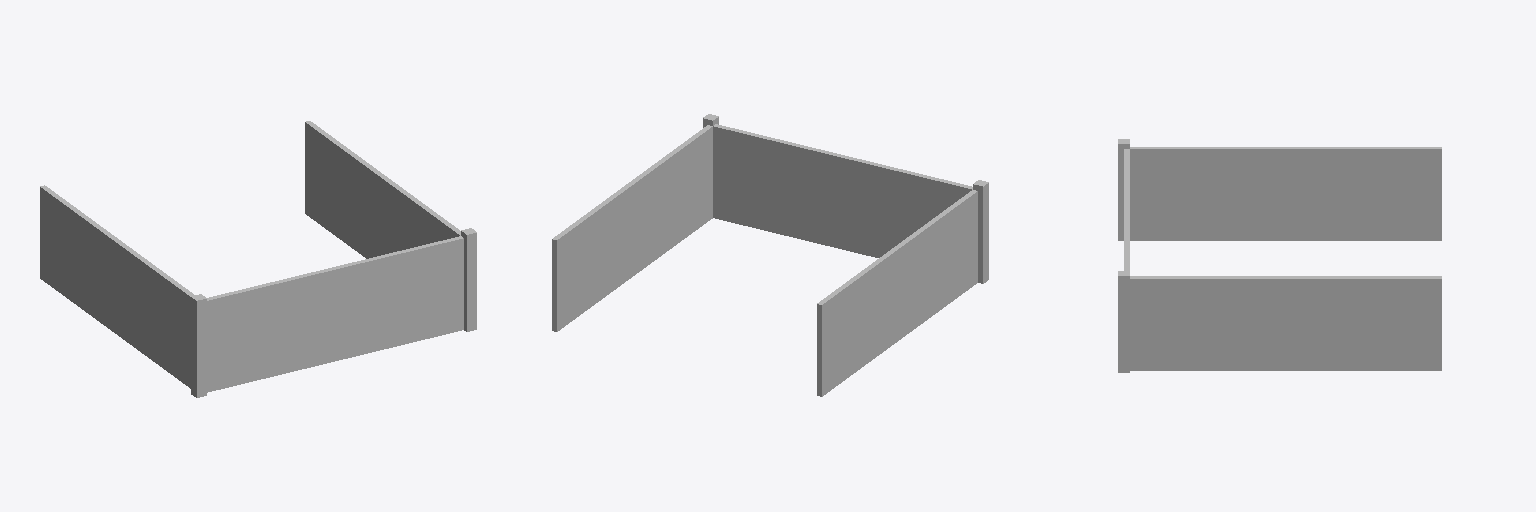
The model's file is fence_medium.obj.
The picture shows the model from 3 angles: view 1: azimuth 30°, elevation 25°; view 2: azimuth 150°, elevation 25°; view 3: azimuth 270°, elevation 25°; orthographic projection.
Visible parts, largest first — view 1: fence_medium; view 2: fence_medium; view 3: fence_medium.
Boxes of the visible parts, x1=… form: fence_medium: x1=40, y1=121, x2=476, y2=397; fence_medium: x1=552, y1=114, x2=988, y2=396; fence_medium: x1=1118, y1=139, x2=1441, y2=372.
Bounding box in the file's own units: 0.8 × 0.265 × 0.8.